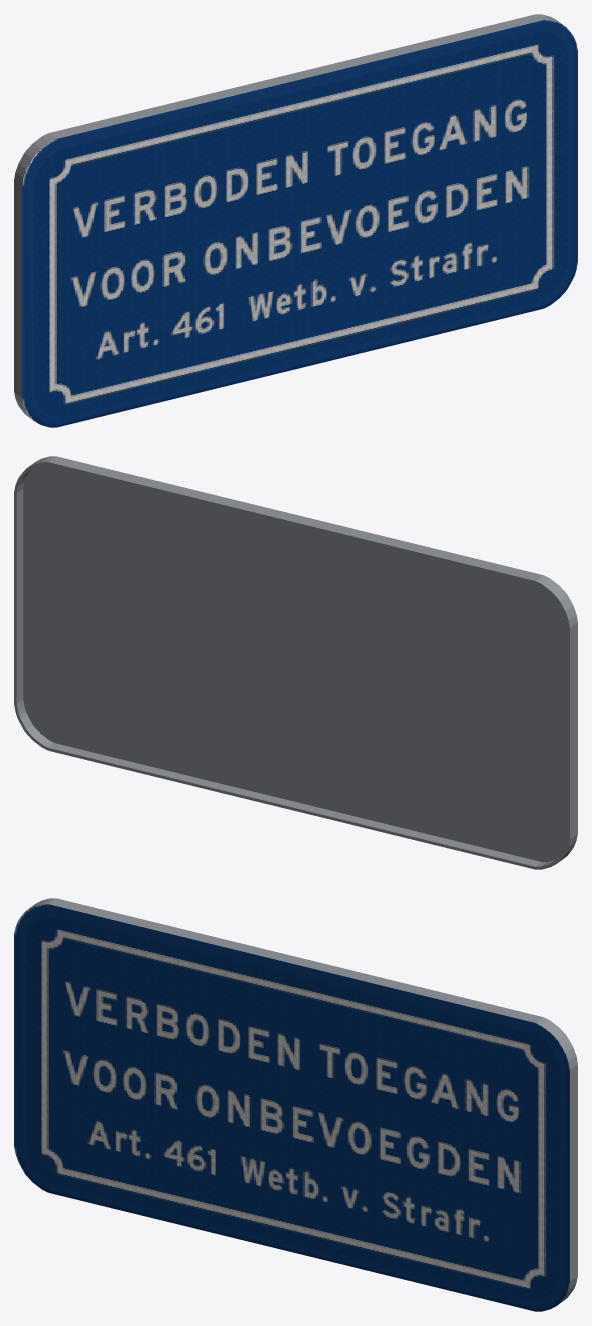
3 views of the same model, one above another, from view 1: azimuth 30°, elevation 25°; view 2: azimuth 150°, elevation 25°; view 3: azimuth 330°, elevation 25° (orthographic).
Visible parts, largest first — view 1: cat_e8da7f83ae8d086b; view 2: cat_e8da7f83ae8d086b; view 3: cat_e8da7f83ae8d086b.
Boxes of the visible parts, <box> form: cat_e8da7f83ae8d086b: <box>14,14,577,427</box>; cat_e8da7f83ae8d086b: <box>14,456,577,869</box>; cat_e8da7f83ae8d086b: <box>14,898,577,1311</box>.
Bounding box in the file's own units: 0.6 × 0.015 × 0.2976.
2 materials, 1 textured.
